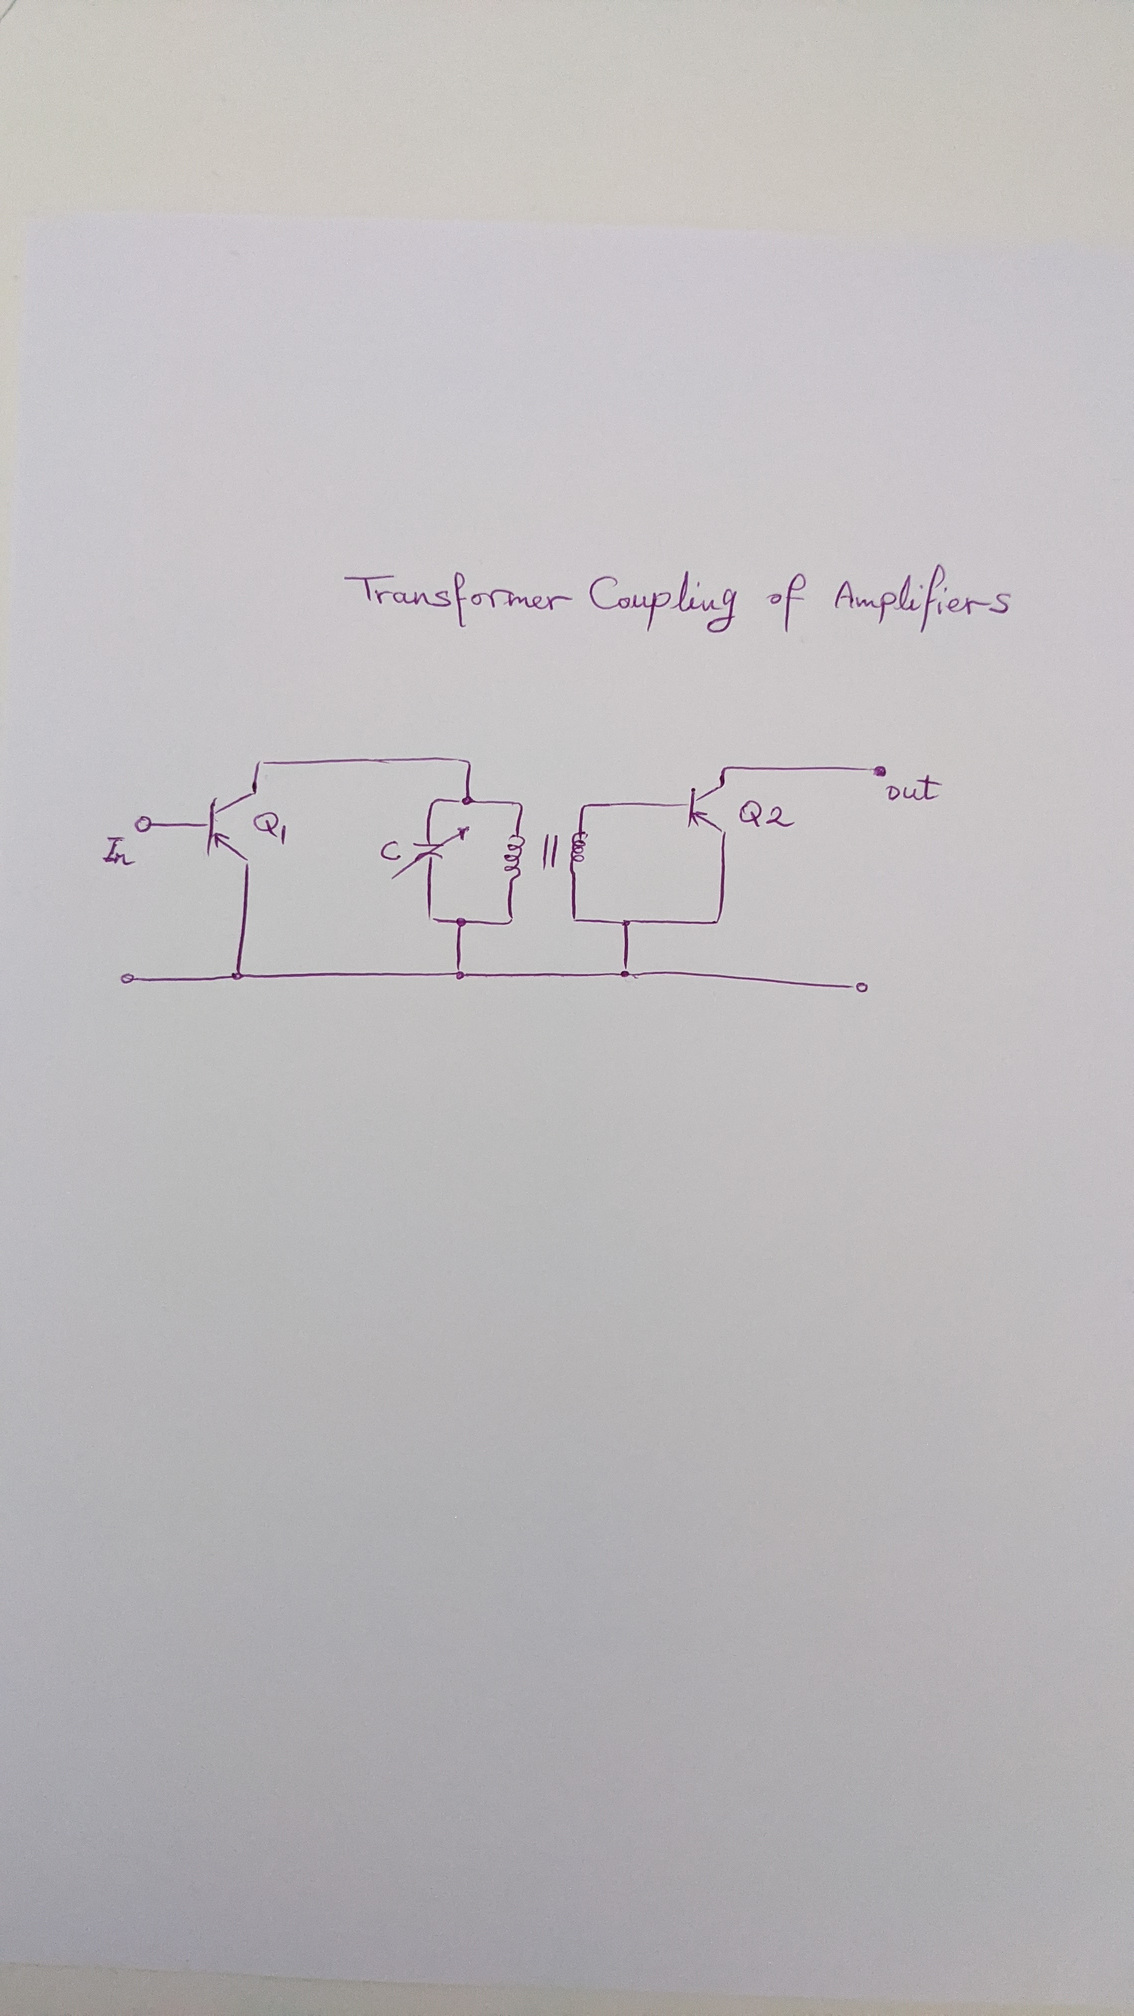capacitor.unpolarized: (379, 824, 474, 881)
junction: (457, 792, 476, 809), (228, 966, 246, 983), (618, 964, 634, 980), (451, 964, 468, 980), (458, 756, 476, 768), (454, 915, 469, 929), (619, 917, 634, 929), (425, 912, 440, 925), (577, 800, 591, 813), (252, 757, 266, 770), (514, 799, 528, 811), (717, 763, 730, 775), (505, 914, 516, 928), (568, 912, 579, 925), (426, 798, 439, 809), (712, 917, 723, 928)
terminal: (132, 814, 155, 835), (863, 763, 889, 780), (847, 979, 870, 996), (118, 971, 138, 986)
text: (341, 559, 1016, 636), (737, 798, 798, 831), (883, 773, 944, 803), (251, 810, 291, 847), (100, 835, 138, 868), (378, 838, 404, 863)
transformer: (503, 828, 590, 883)
transistor: (202, 788, 260, 867), (683, 780, 732, 836)
